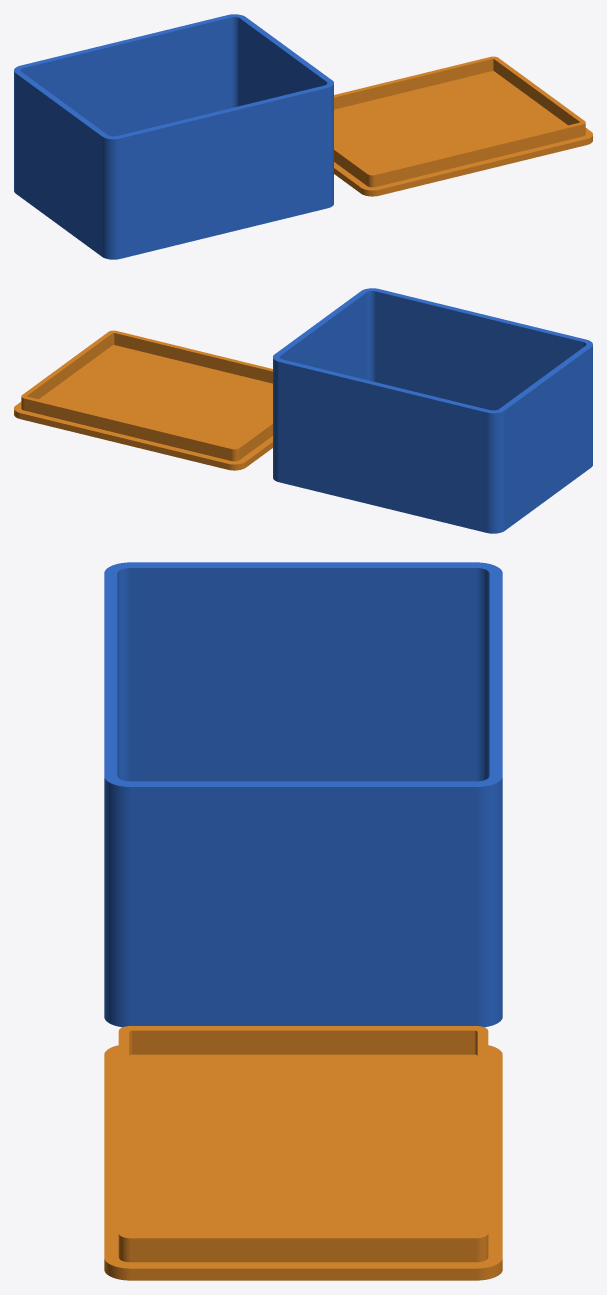
File: boitier.glb
3 views of the same model, one above another, from view 1: azimuth 30°, elevation 25°; view 2: azimuth 150°, elevation 25°; view 3: azimuth 270°, elevation 25° (orthographic). The views are drawn at different scales.
Visible parts, largest first — view 1: boitier, couvercle; view 2: boitier, couvercle; view 3: boitier, couvercle.
Part boxes in pixels (box(x1,y1,x2,y2)): boitier: box(14, 14, 333, 259); couvercle: box(334, 56, 592, 196); boitier: box(273, 288, 592, 533); couvercle: box(14, 330, 272, 470); boitier: box(104, 562, 502, 1027); couvercle: box(104, 1026, 502, 1280).
Bounding box in the file's own units: 0.17 × 0.04 × 0.06.
